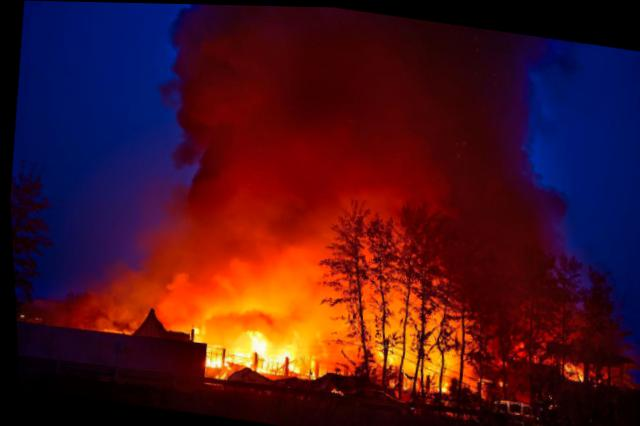fire: (243, 328, 301, 364), (252, 355, 280, 374), (560, 359, 582, 378), (224, 349, 245, 365), (202, 353, 218, 368), (436, 379, 446, 392)
